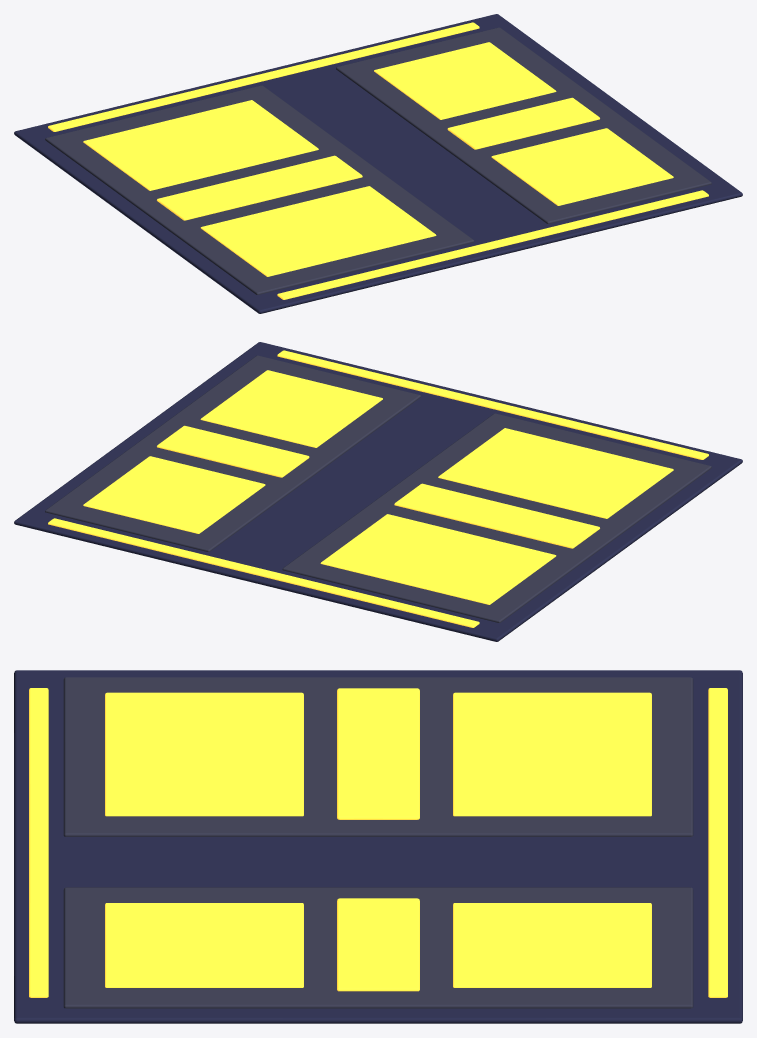
File: int.threshold.l1.2.glb
The picture shows the model from 3 angles, top to bottom: view 1: azimuth 30°, elevation 25°; view 2: azimuth 150°, elevation 25°; view 3: azimuth 270°, elevation 25°; orthographic projection. The views are drawn at different scales.
Parts seen in each view (by area): view 1: int.threshold.l1.2; view 2: int.threshold.l1.2; view 3: int.threshold.l1.2.
Part boxes in pixels (x1,y1,x2,y2): int.threshold.l1.2: (14,14,742,313); int.threshold.l1.2: (14,342,742,641); int.threshold.l1.2: (14,670,742,1023).
Bounding box in the file's own units: 1 × 0.016 × 0.88.
